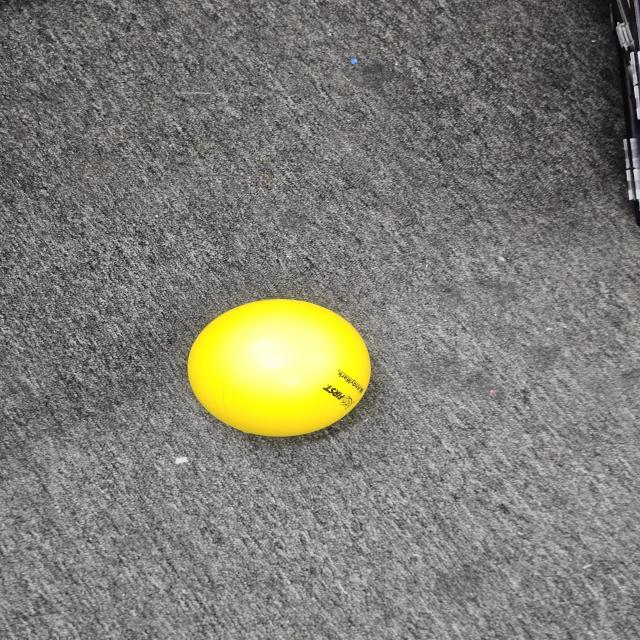Fuel: (181, 296, 378, 444)
